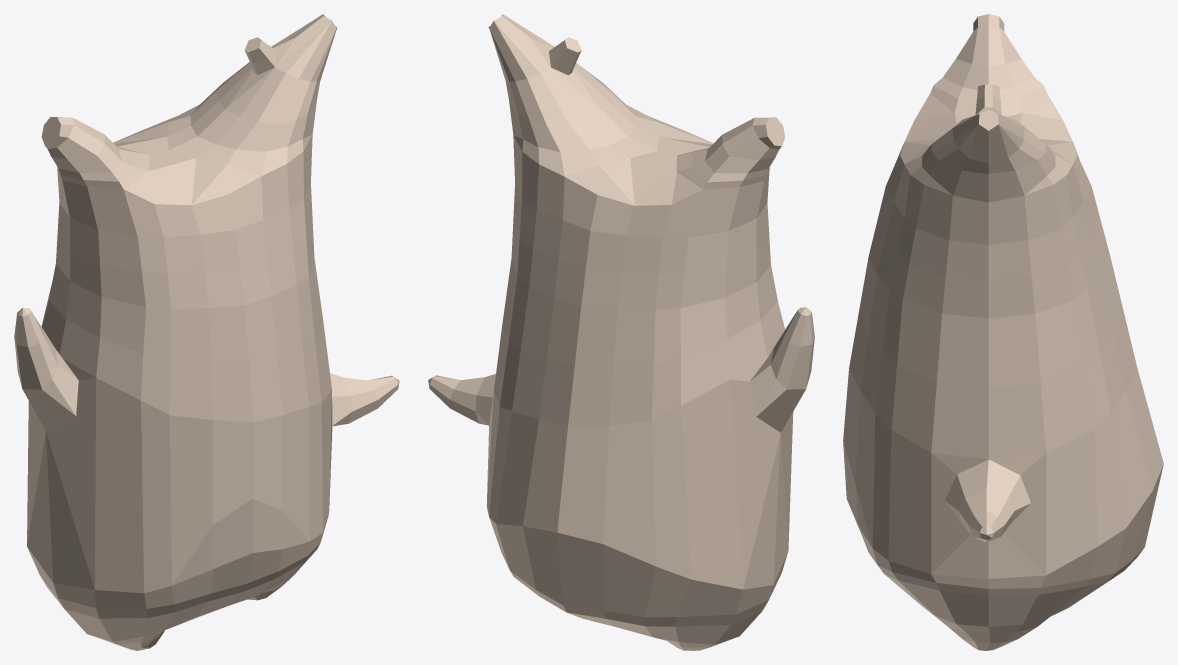
Rendered from frame_0061.obj.
3 renders of one model, left to right at view 1: azimuth 30°, elevation 25°; view 2: azimuth 150°, elevation 25°; view 3: azimuth 270°, elevation 25°, orthographic.
Parts seen in each view (by area): view 1: korok; view 2: korok; view 3: korok.
Part boxes in pixels (left/top/right/bottom): korok: left=14, top=14, right=399, bottom=650; korok: left=428, top=14, right=814, bottom=650; korok: left=843, top=14, right=1163, bottom=650.
Bounding box in the file's own units: 1.5 × 2.19 × 1.07.
